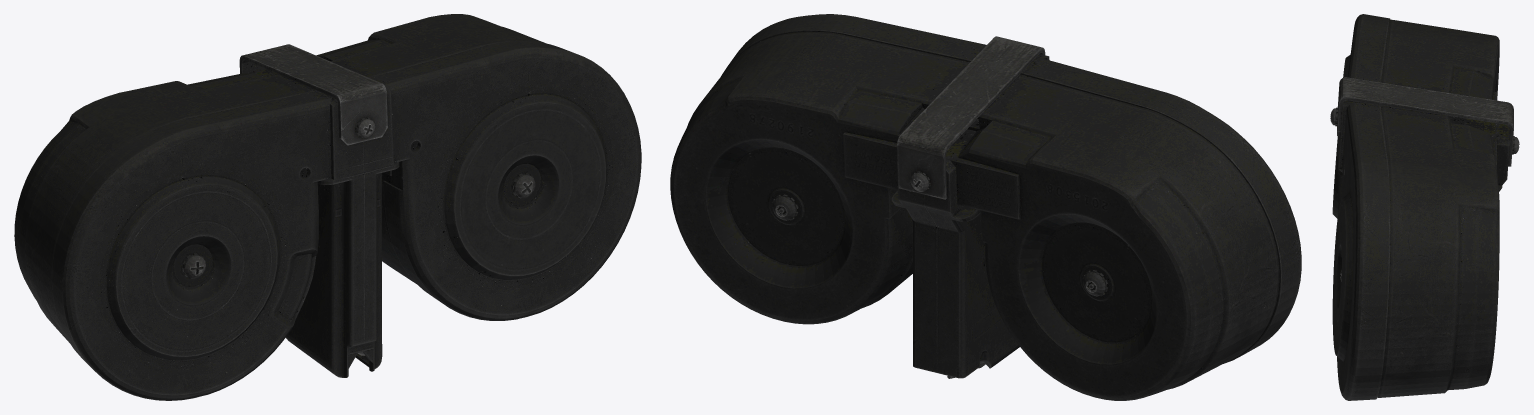
3 views of the same model, side by side, from view 1: azimuth 30°, elevation 25°; view 2: azimuth 150°, elevation 25°; view 3: azimuth 270°, elevation 25° (orthographic). The views are drawn at different scales.
Parts seen in each view (by area): view 1: TW_6761765f1f08ed5e8800b7a6_PZ_Import; view 2: TW_6761765f1f08ed5e8800b7a6_PZ_Import; view 3: TW_6761765f1f08ed5e8800b7a6_PZ_Import.
Part boxes in pixels (bbox=[...]): TW_6761765f1f08ed5e8800b7a6_PZ_Import: bbox=[14, 14, 641, 400]; TW_6761765f1f08ed5e8800b7a6_PZ_Import: bbox=[670, 14, 1301, 400]; TW_6761765f1f08ed5e8800b7a6_PZ_Import: bbox=[1330, 14, 1519, 400].
Bounding box in the file's own units: 0.146 × 0.0477 × 0.069.
1 material, 1 textured.
